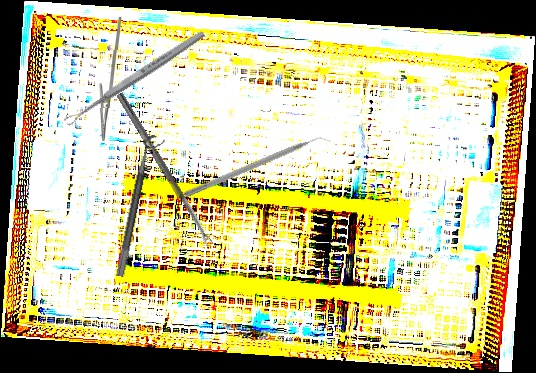Chopper: (183, 131, 333, 206)
Fixation Ring: (115, 133, 166, 280)
Needle Holder: (91, 16, 123, 142)
Surgical Spoon: (115, 92, 214, 248), (62, 28, 207, 128)
